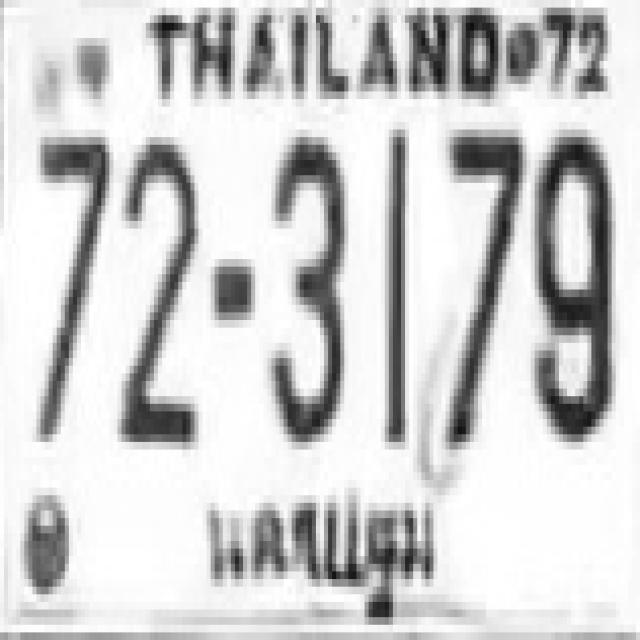1: (381, 122, 405, 442)
2: (116, 133, 196, 438)
3: (268, 130, 344, 434)
7: (442, 122, 518, 442), (34, 130, 108, 434)
9: (530, 130, 608, 434)
NakhonPathom: (196, 476, 446, 635)
